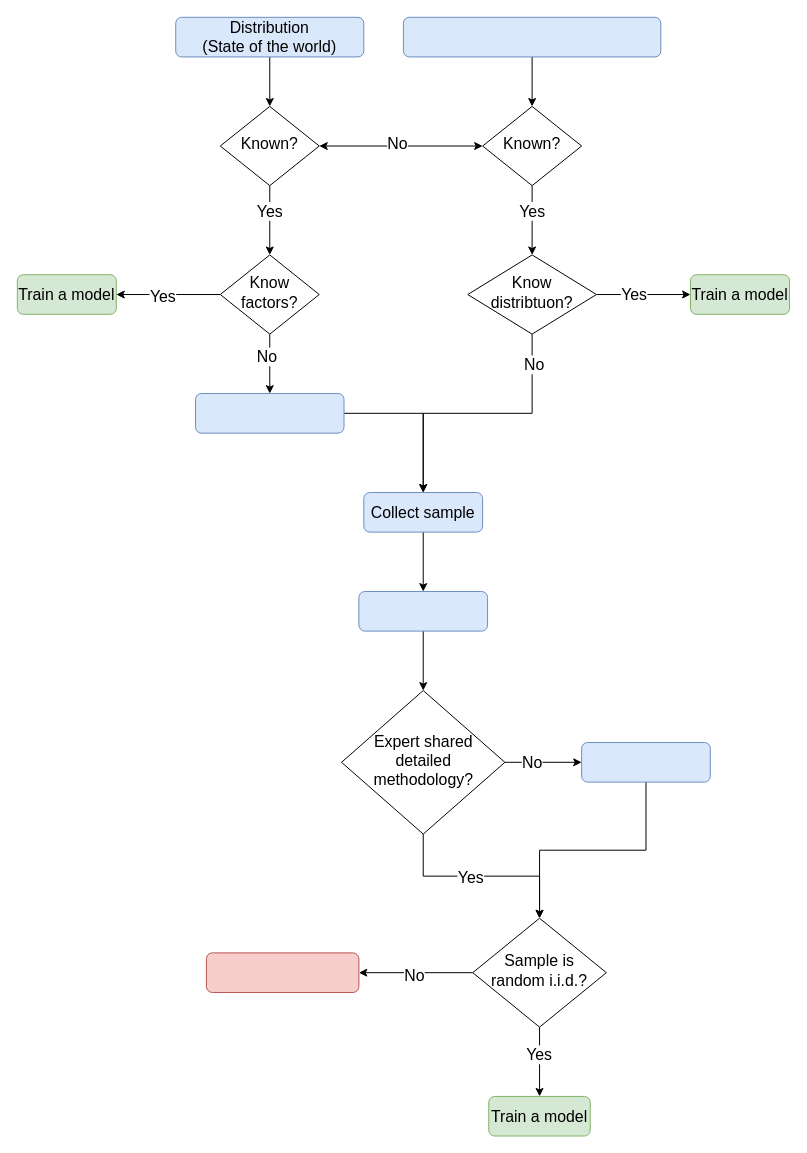
This 807x1153 diagram has some shape labels left out. The shapes that lost their labels are listed below. From the top down, each one's centre as x and y in pixels, then its label:
At point (531, 36): "Factors (Explainers of the state of the world)".
At point (269, 413): "Shape guids what factors to look for".
At point (423, 611): "Check reliability".
At point (645, 762): "Reverse engineer".
At point (282, 972): "Model will be biased".
